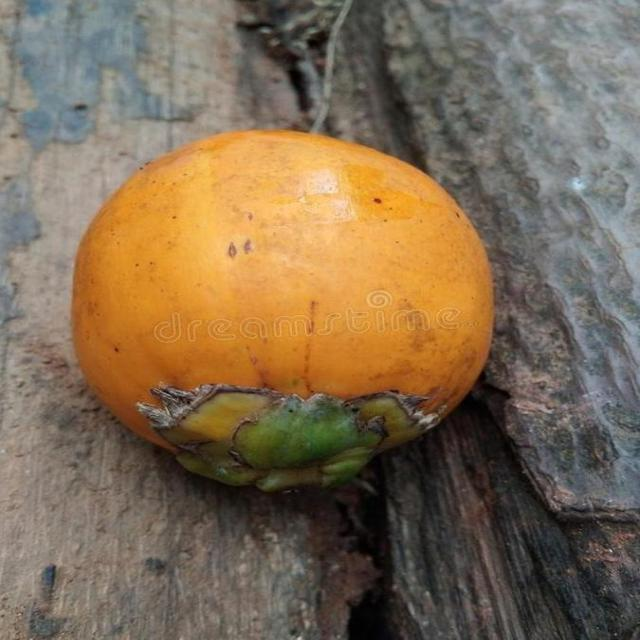good: (69, 129, 495, 496)
